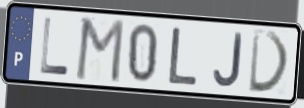0: (127, 22, 161, 85)
D: (247, 28, 292, 95)
J: (211, 30, 245, 89)
L: (166, 25, 200, 88), (39, 15, 71, 77)
M: (73, 16, 127, 86)
